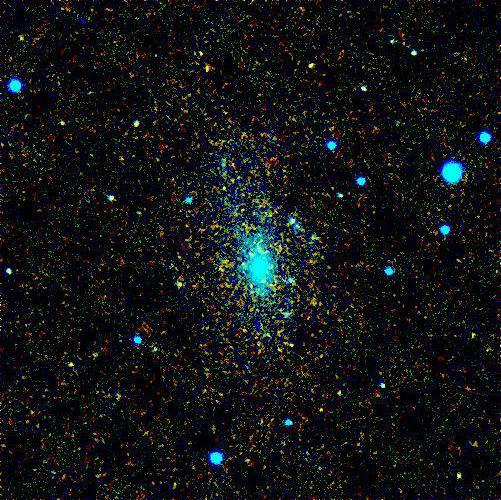star: (171, 275, 201, 305)
